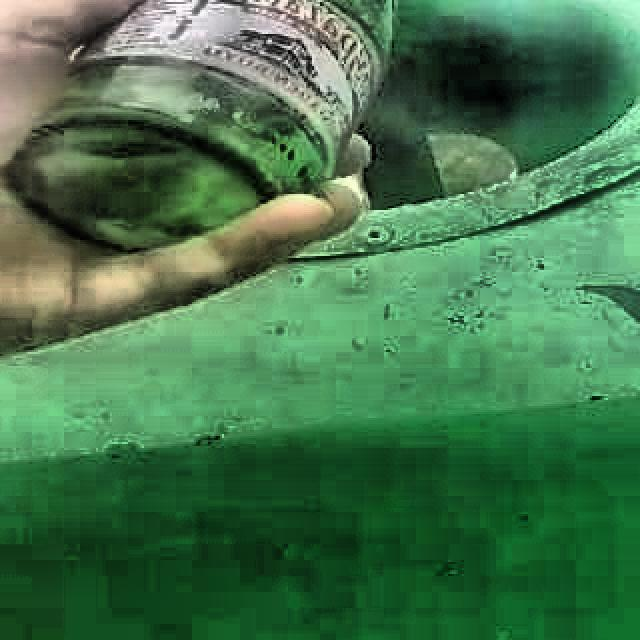glass: (8, 0, 395, 249)
